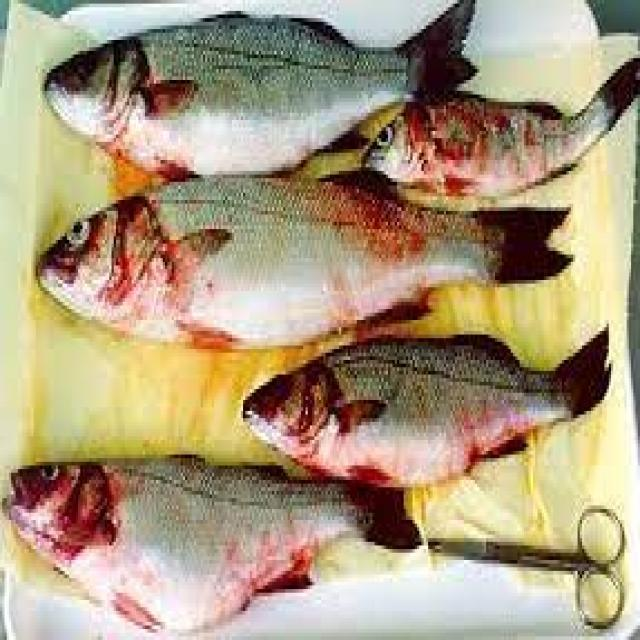EUS Disease: (2, 20, 628, 621), (27, 176, 550, 346), (0, 456, 399, 634), (247, 375, 570, 485), (46, 25, 243, 178), (392, 91, 560, 202)
